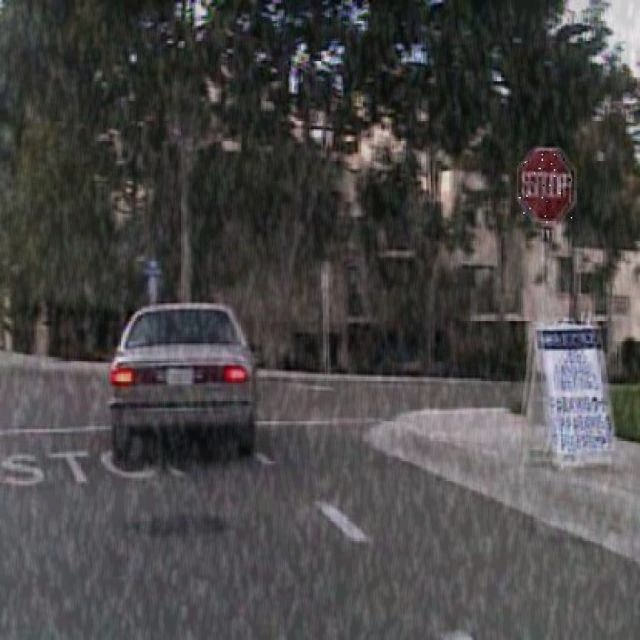stop: (517, 146, 576, 224)
